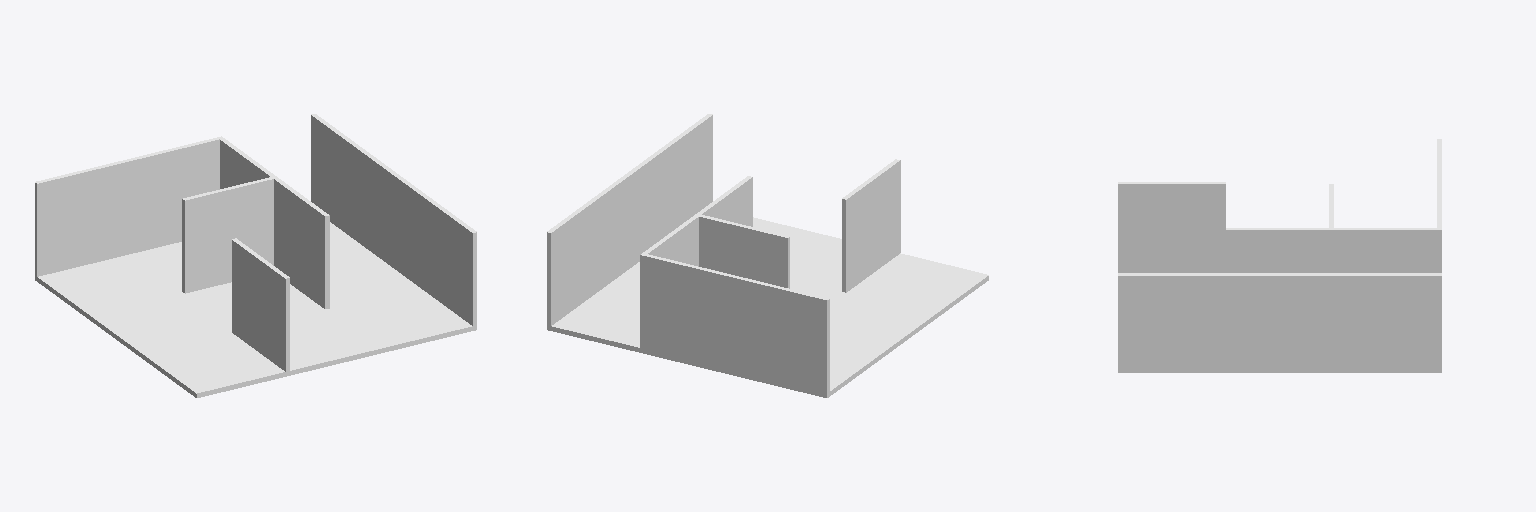
The model's file is level_maze-11.obj.
3 renders of one model, left to right at view 1: azimuth 30°, elevation 25°; view 2: azimuth 150°, elevation 25°; view 3: azimuth 270°, elevation 25°, orthographic.
Visible parts, largest first — view 1: level_maze-11; view 2: level_maze-11; view 3: level_maze-11.
Boxes of the visible parts, x1,y1,x2,y2 form: level_maze-11: [35, 114, 476, 397]; level_maze-11: [547, 114, 988, 397]; level_maze-11: [1118, 139, 1441, 372].
Bounding box in the file's own units: 60 × 20 × 60.